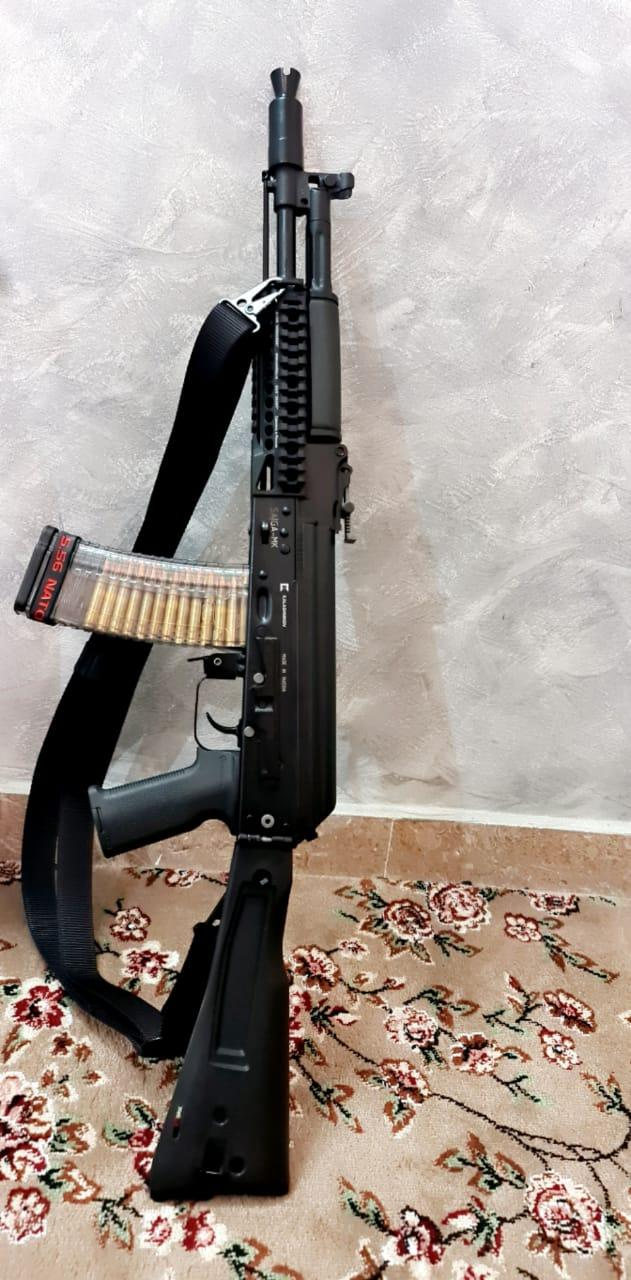weapon: (15, 63, 356, 1204)
